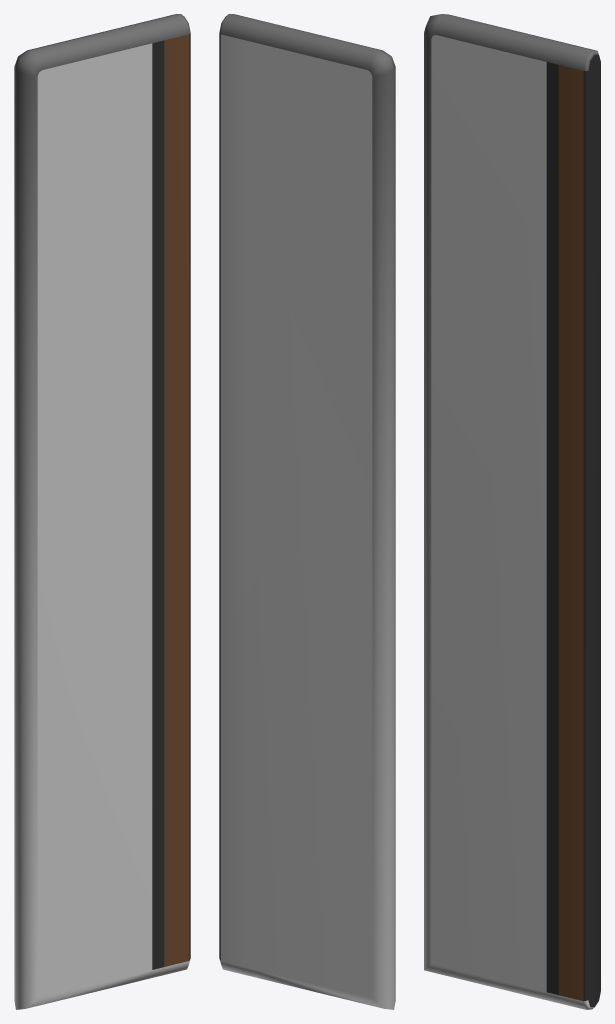
File: fridge_door_left.gltf
3 renders of one model, left to right at view 1: azimuth 30°, elevation 25°; view 2: azimuth 150°, elevation 25°; view 3: azimuth 330°, elevation 25°, orthographic.
Visible parts, largest first — view 1: Cube.016; view 2: Cube.016; view 3: Cube.016.
Part boxes in pixels (x1=…): Cube.016: x1=14, y1=14, x2=190, y2=1009; Cube.016: x1=219, y1=14, x2=395, y2=1009; Cube.016: x1=424, y1=14, x2=600, y2=1009.
Size of the model in its own units: 0.4445 by 2.41 by 0.0728.
